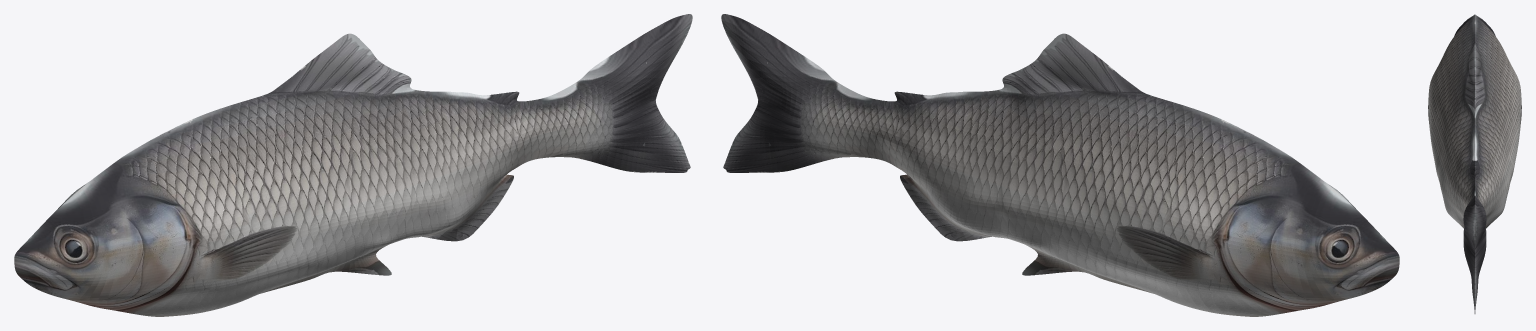
File: Fish 22.fbx
3 views of the same model, side by side, from view 1: azimuth 30°, elevation 25°; view 2: azimuth 150°, elevation 25°; view 3: azimuth 270°, elevation 25° (orthographic). The views are drawn at different scales.
Parts seen in each view (by area): view 1: Fish 22; view 2: Fish 22; view 3: Fish 22.
Boxes of the visible parts, left/top/right/bottom form: Fish 22: left=14, top=14, right=692, bottom=316; Fish 22: left=721, top=14, right=1399, bottom=316; Fish 22: left=1428, top=14, right=1521, bottom=313.
Bounding box in the file's own units: 4.4 × 1.56 × 0.7443.
Materials: 1 (1 with a texture image).
